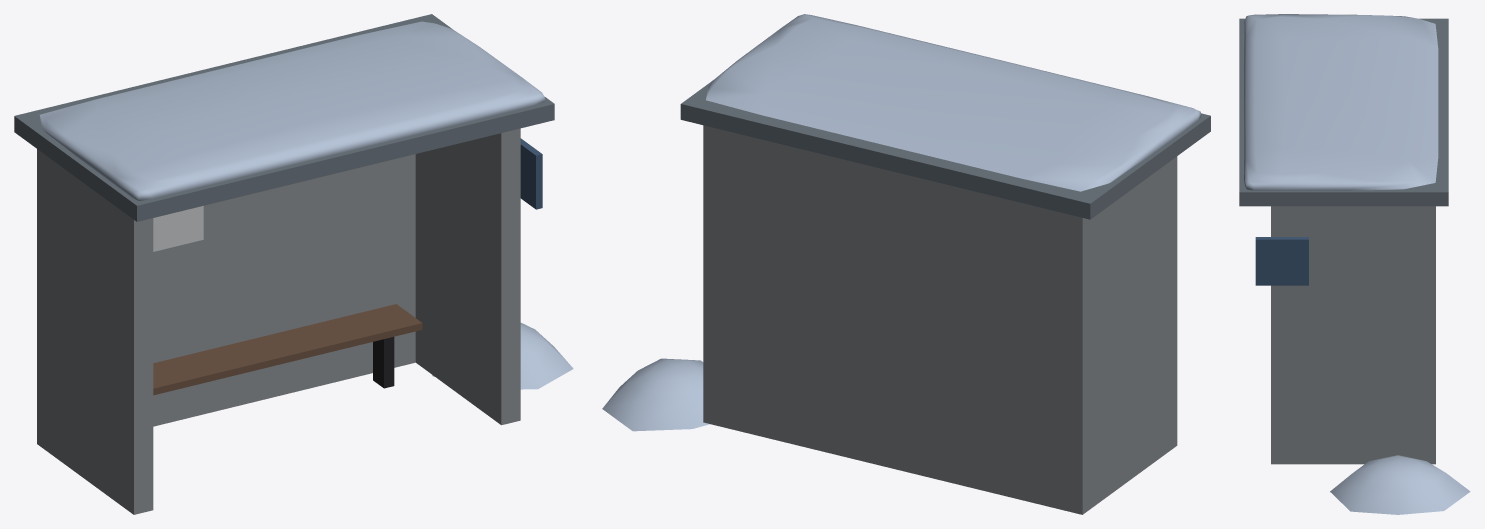
File: bus_stop.glb
The picture shows the model from 3 angles, left to right: view 1: azimuth 30°, elevation 25°; view 2: azimuth 150°, elevation 25°; view 3: azimuth 270°, elevation 25°; orthographic projection. The views are drawn at different scales.
Parts seen in each view (by area): view 1: Prop; view 2: Prop; view 3: Prop.
Boxes of the visible parts, <box> form: Prop: <box>14,14,573,514</box>; Prop: <box>602,14,1210,514</box>; Prop: <box>1239,14,1470,514</box>.
Bounding box in the file's own units: 3.96 × 2.57 × 1.82.
